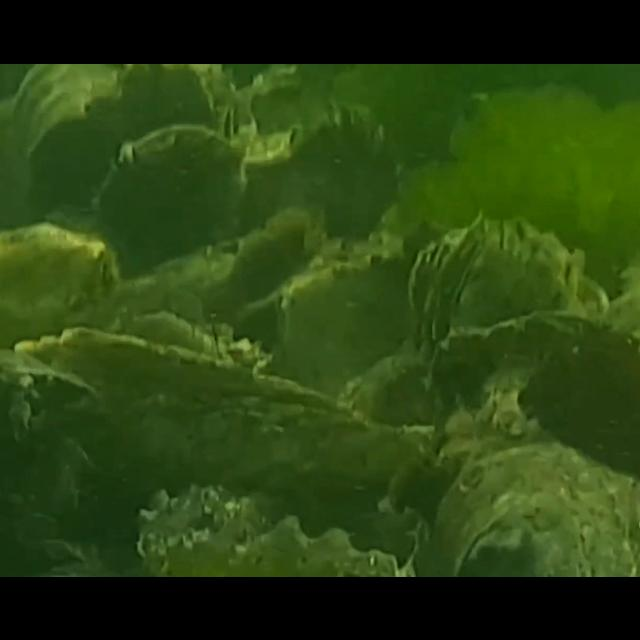Oyster-Closed: (18, 317, 372, 478), (343, 302, 632, 431), (436, 436, 640, 576), (140, 474, 420, 576), (413, 207, 592, 347), (102, 116, 254, 270), (279, 243, 419, 391), (286, 100, 408, 242), (0, 213, 130, 341), (1, 336, 108, 426)
